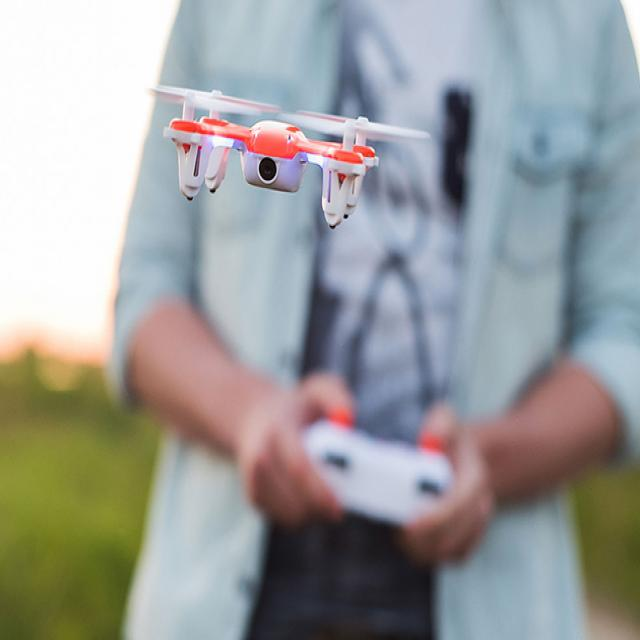drones: (142, 69, 438, 233)
